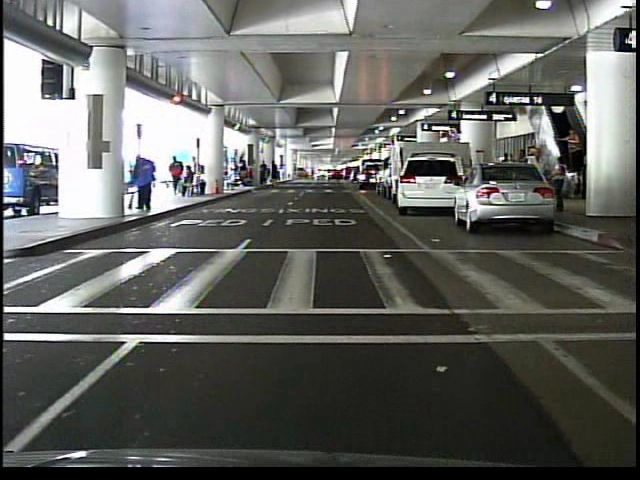person: (131, 153, 160, 214), (559, 124, 583, 172)
